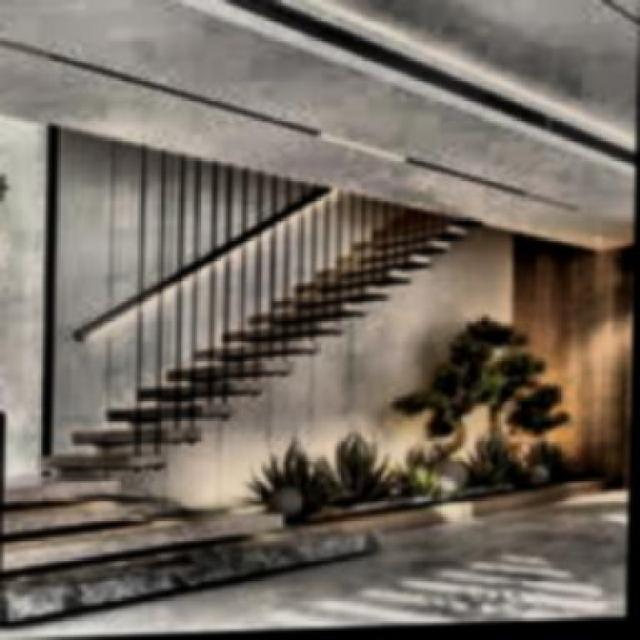stair: (80, 205, 488, 468), (0, 475, 377, 620)
